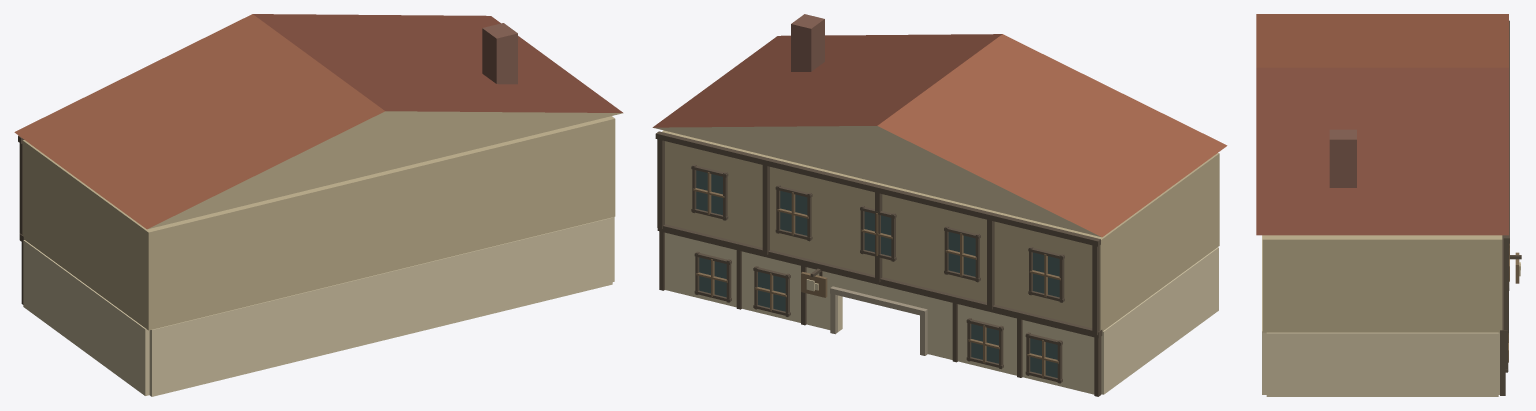
File: WalkTown_Tavern_Cover.fbx
3 views of the same model, side by side, from view 1: azimuth 30°, elevation 25°; view 2: azimuth 150°, elevation 25°; view 3: azimuth 270°, elevation 25° (orthographic). The views are drawn at different scales.
Parts seen in each view (by area): view 1: WalkTown_Tavern_Cover; view 2: WalkTown_Tavern_Cover; view 3: WalkTown_Tavern_Cover.
Part boxes in pixels (x1=…): WalkTown_Tavern_Cover: x1=14, y1=14, x2=623, y2=396; WalkTown_Tavern_Cover: x1=652, y1=14, x2=1227, y2=396; WalkTown_Tavern_Cover: x1=1256, y1=14, x2=1521, y2=396.
Bounding box in the file's own units: 16.04 × 7.71 × 8.13.
